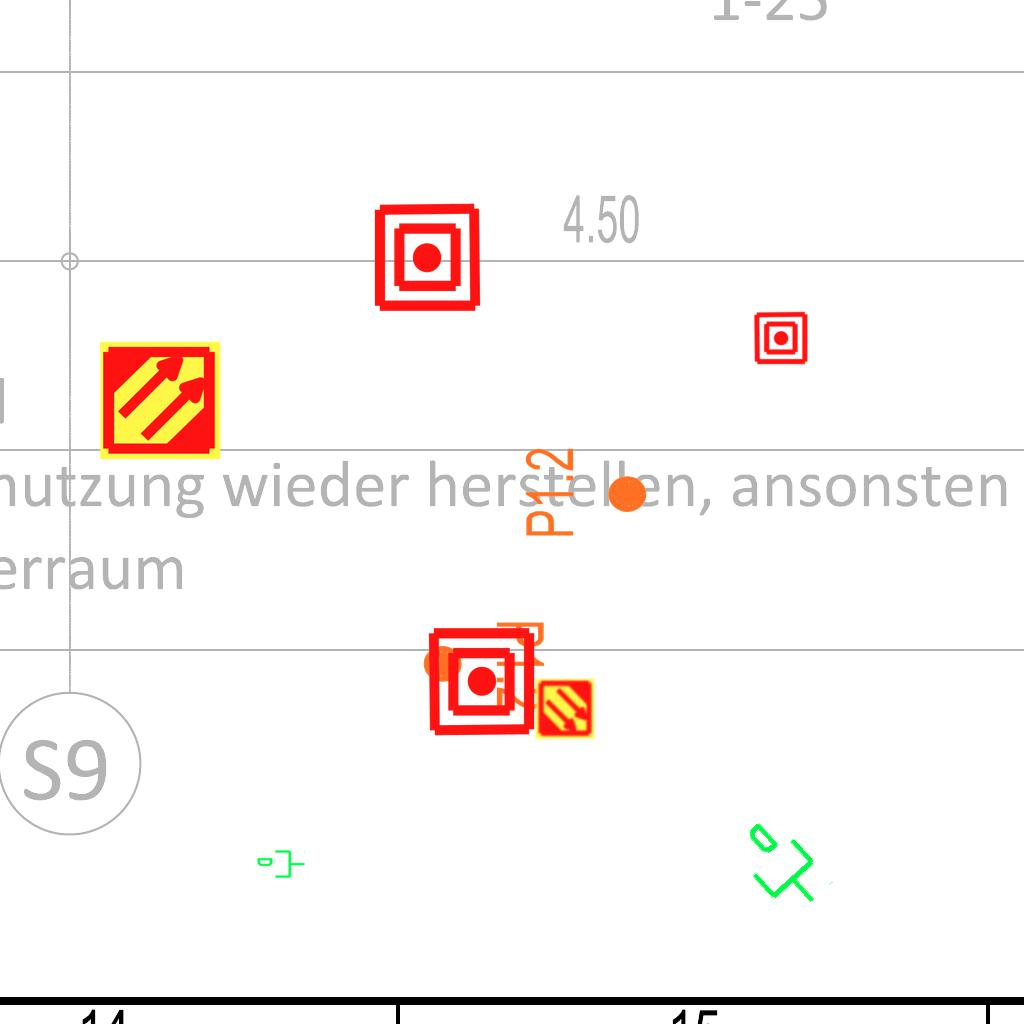ASR_Ansaugrauchmelder: (98, 338, 223, 463), (534, 678, 596, 740)
Datenanschluss_einfach: (720, 806, 839, 928), (256, 848, 306, 882)
Downlight_LED_Einbauleuchten_Flur: (420, 619, 548, 712), (522, 446, 650, 539)
NAM-Nichtautomatischer_Melder: (371, 201, 484, 314), (425, 625, 538, 738), (753, 310, 809, 366)
